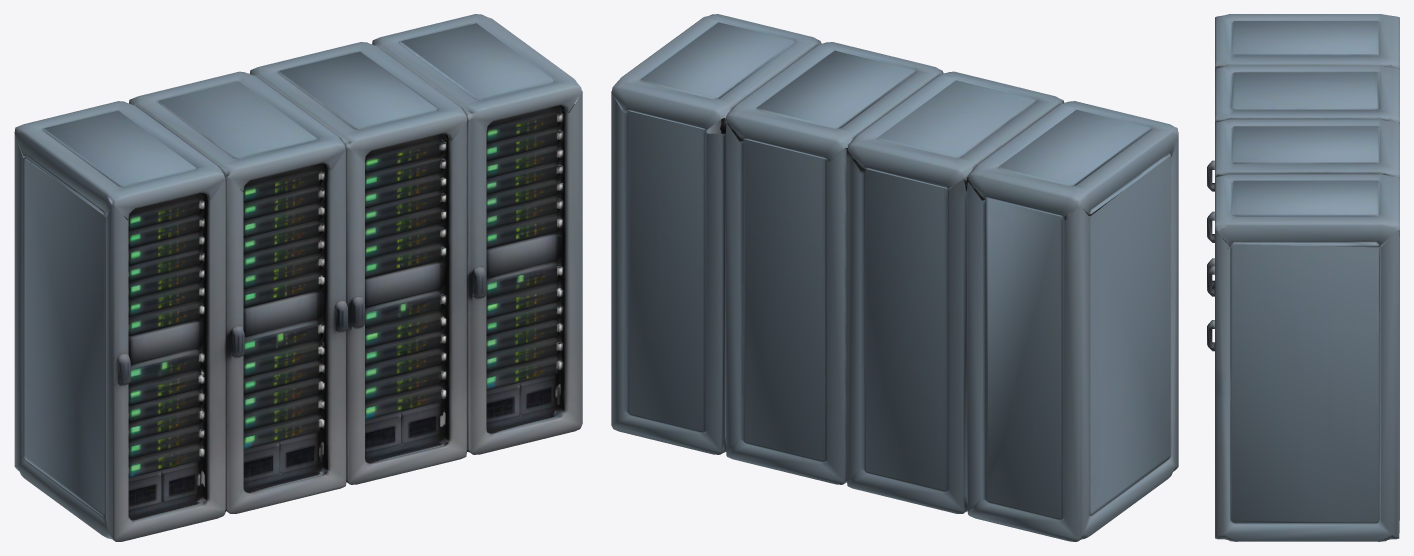
The model's file is server_rack_c2999a18_v3.glb.
3 views of the same model, side by side, from view 1: azimuth 30°, elevation 25°; view 2: azimuth 150°, elevation 25°; view 3: azimuth 270°, elevation 25° (orthographic). The views are drawn at different scales.
Parts seen in each view (by area): view 1: material; view 2: material; view 3: material.
Boxes of the visible parts, <box> form: material: <box>14,14,582,541</box>; material: <box>611,14,1178,541</box>; material: <box>1207,14,1399,541</box>.
Bounding box in the file's own units: 1.9 × 1.35 × 0.7348.
1 material, 1 textured.
